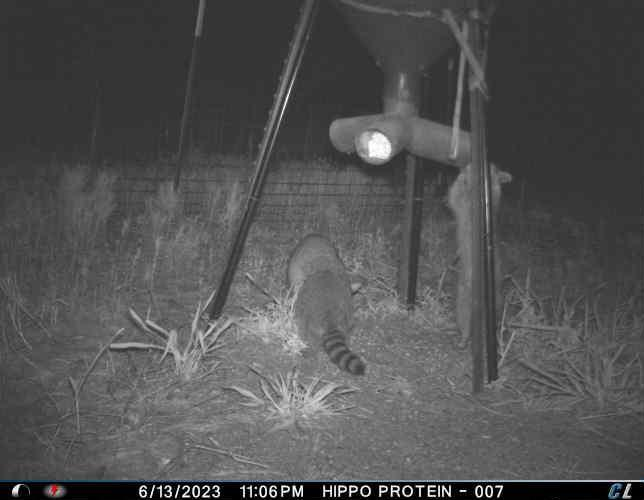Raccoon: (446, 161, 513, 352), (283, 269, 366, 378), (286, 235, 351, 286)
